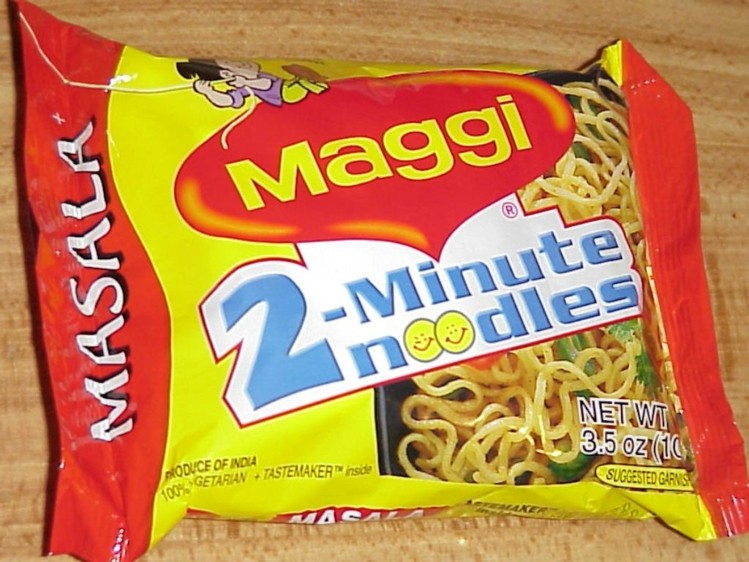maggie: (18, 1, 745, 552)
